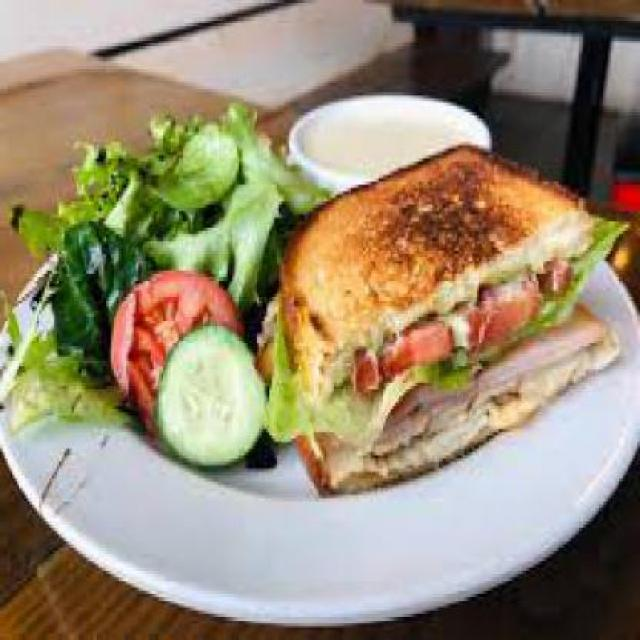clam chowder: (304, 73, 479, 169)
club sandwich: (272, 142, 622, 498)
greek salad: (2, 98, 284, 456)
